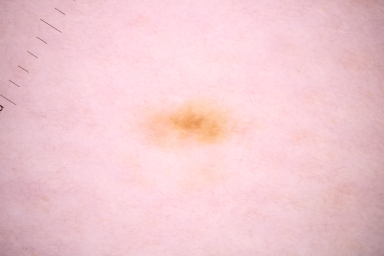melanoma: (157, 105, 225, 143)
